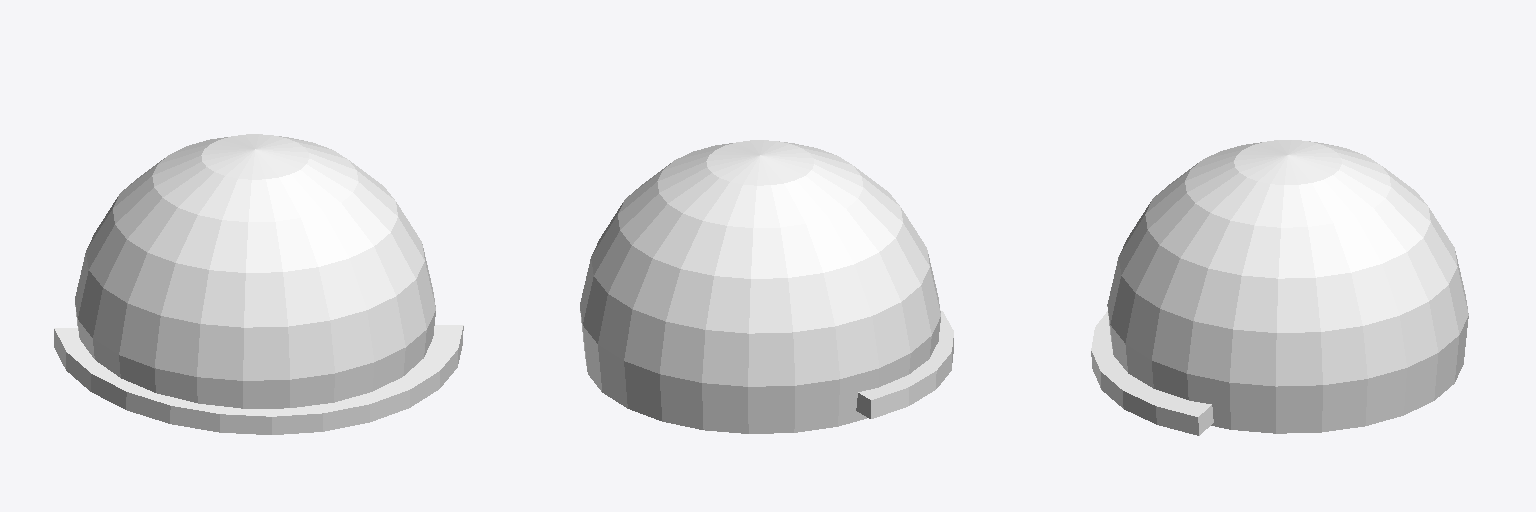
The model's file is Globen.obj.
The picture shows the model from 3 angles: view 1: azimuth 30°, elevation 25°; view 2: azimuth 150°, elevation 25°; view 3: azimuth 270°, elevation 25°; orthographic projection.
Parts seen in each view (by area): view 1: Mesh1 Model, Mesh2 Model; view 2: Mesh1 Model, Mesh2 Model; view 3: Mesh1 Model, Mesh2 Model.
Part boxes in pixels (x1,y1,x2,y2): Mesh1 Model: (75,134,435,408); Mesh2 Model: (54,325,463,434); Mesh1 Model: (580,140,940,433); Mesh2 Model: (856,310,953,418); Mesh1 Model: (1107,140,1468,433); Mesh2 Model: (1091,311,1213,435).
Size of the model in its own units: 130 by 76.4 by 127.